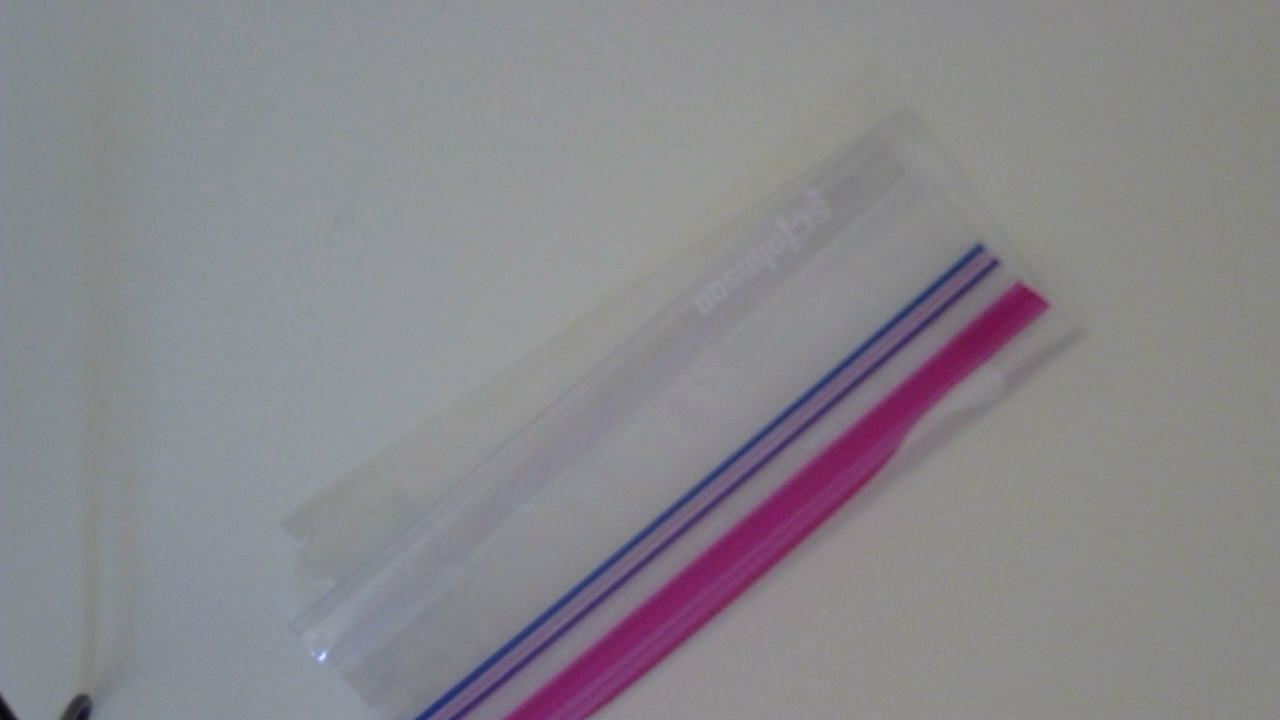Plastic Bag: (281, 120, 1103, 720)
